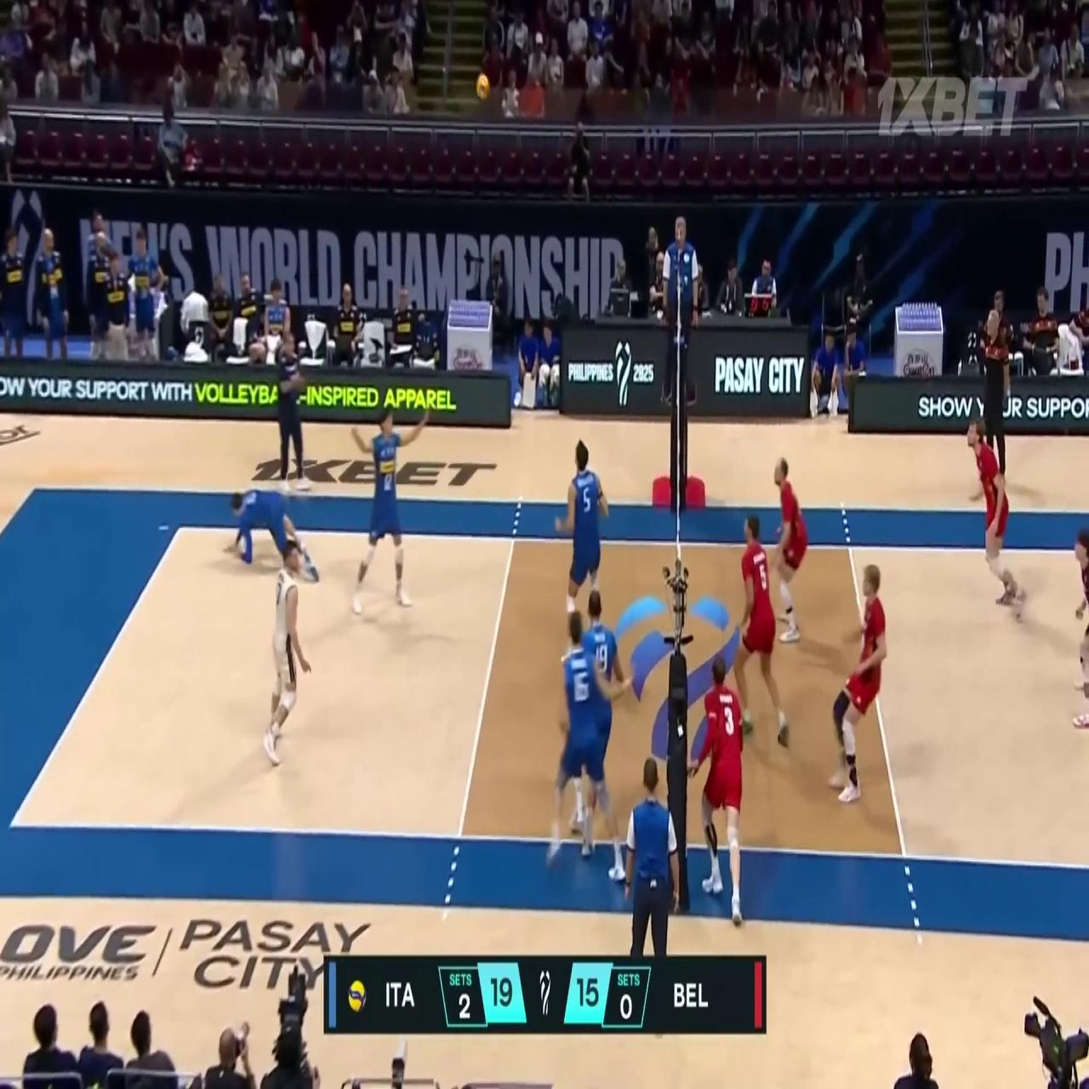ball: (475, 73, 489, 100)
